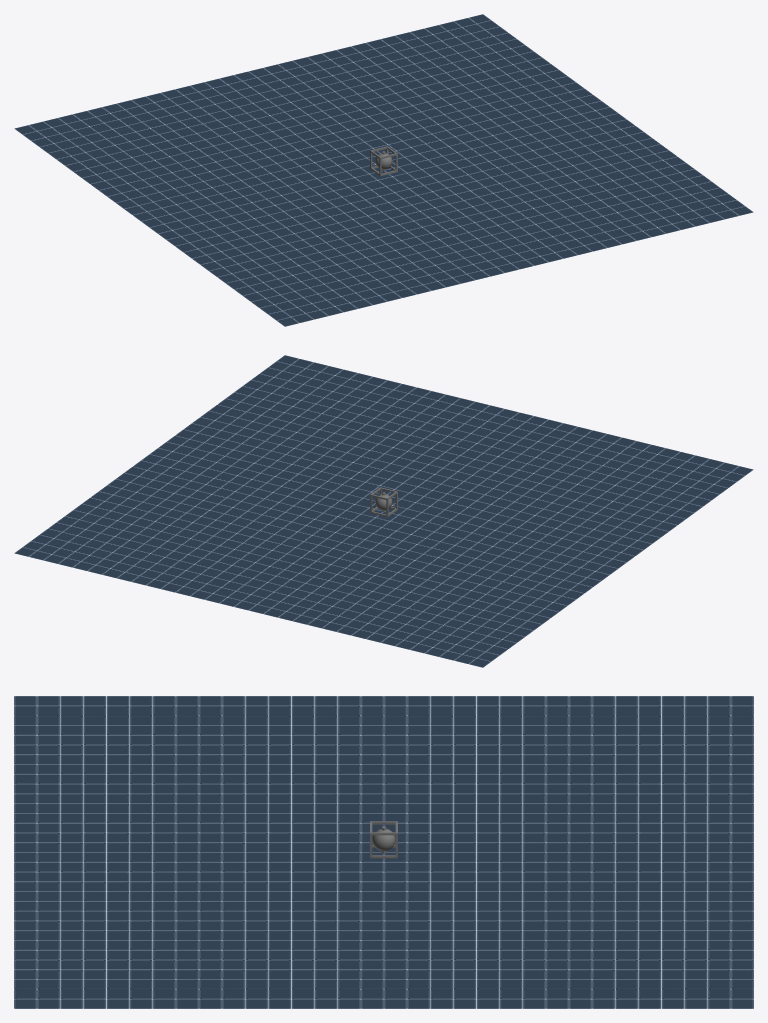
File: Assets.fbx
3 views of the same model, one above another, from view 1: azimuth 30°, elevation 25°; view 2: azimuth 150°, elevation 25°; view 3: azimuth 270°, elevation 25° (orthographic). The views are drawn at different scales.
Visible parts, largest first — view 1: Grid_Mesh; view 2: Grid_Mesh; view 3: Grid_Mesh.
Boxes of the visible parts, x1,y1,x2,y2 form: Grid_Mesh: (14, 14, 753, 326); Grid_Mesh: (14, 355, 753, 667); Grid_Mesh: (14, 696, 753, 1008).
Size of the model in its own units: 3200 by 120 by 3200.
5 materials, 1 textured.
